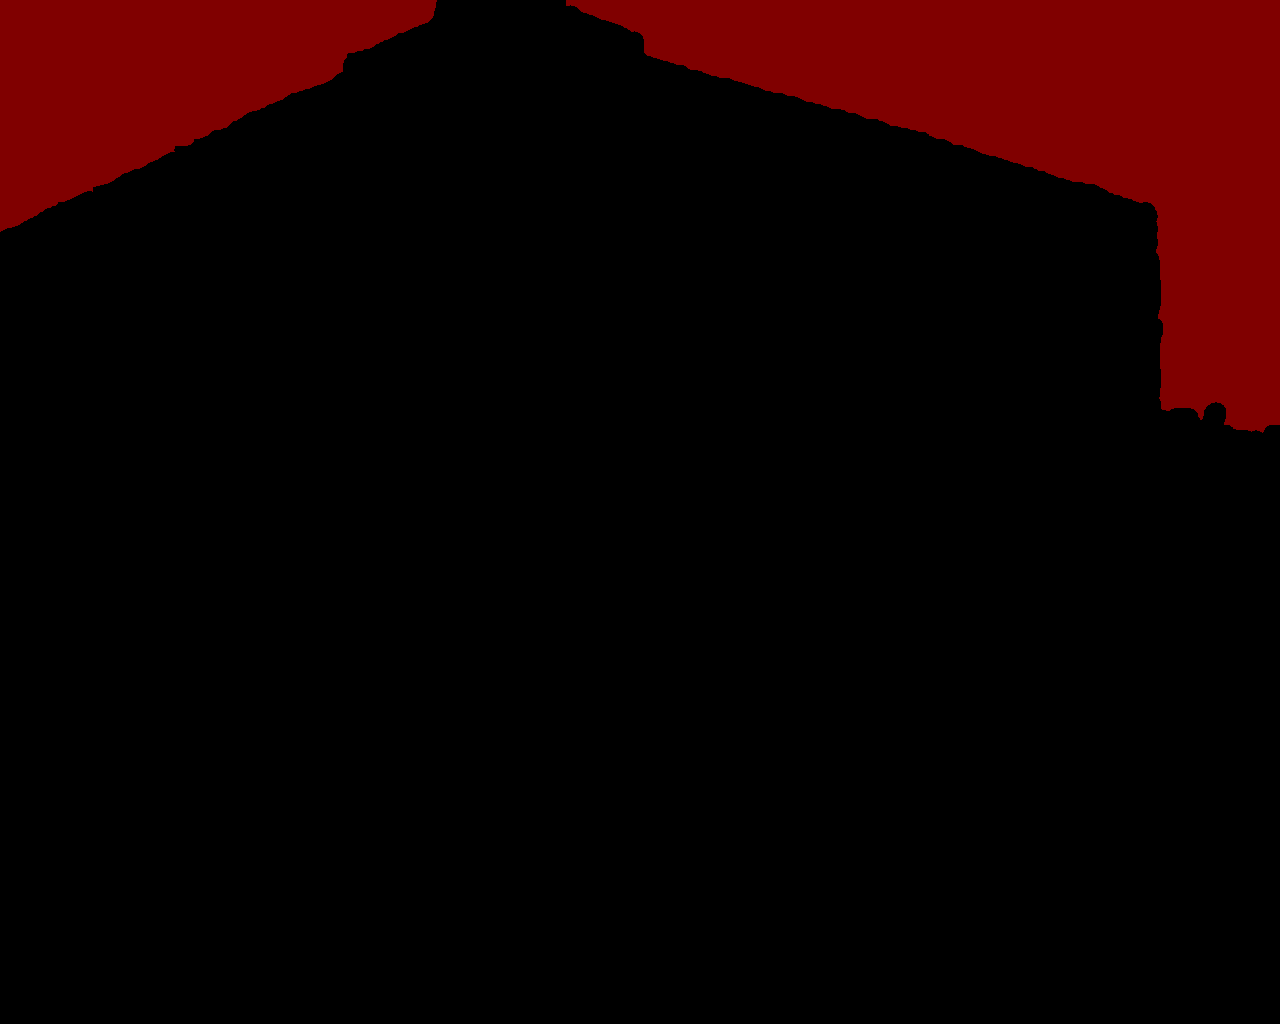Sky: (1, 1, 1279, 433)
